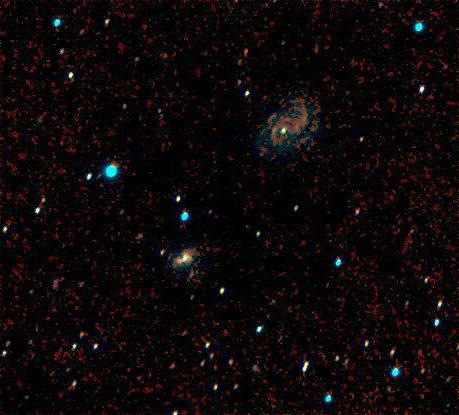star: (247, 138, 277, 168)
